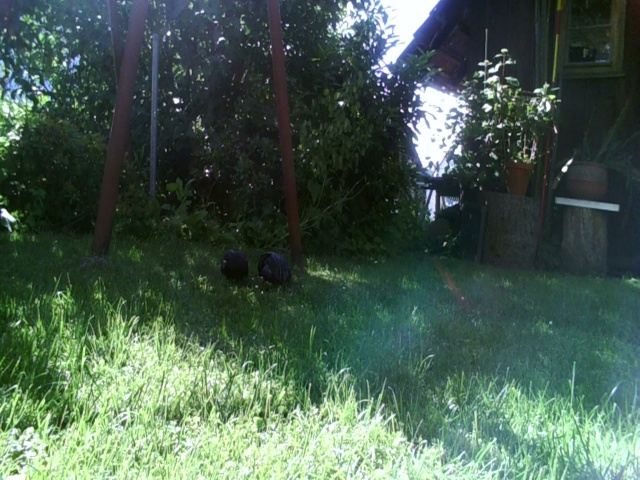Pigeon: (214, 245, 250, 288), (257, 250, 291, 286)
